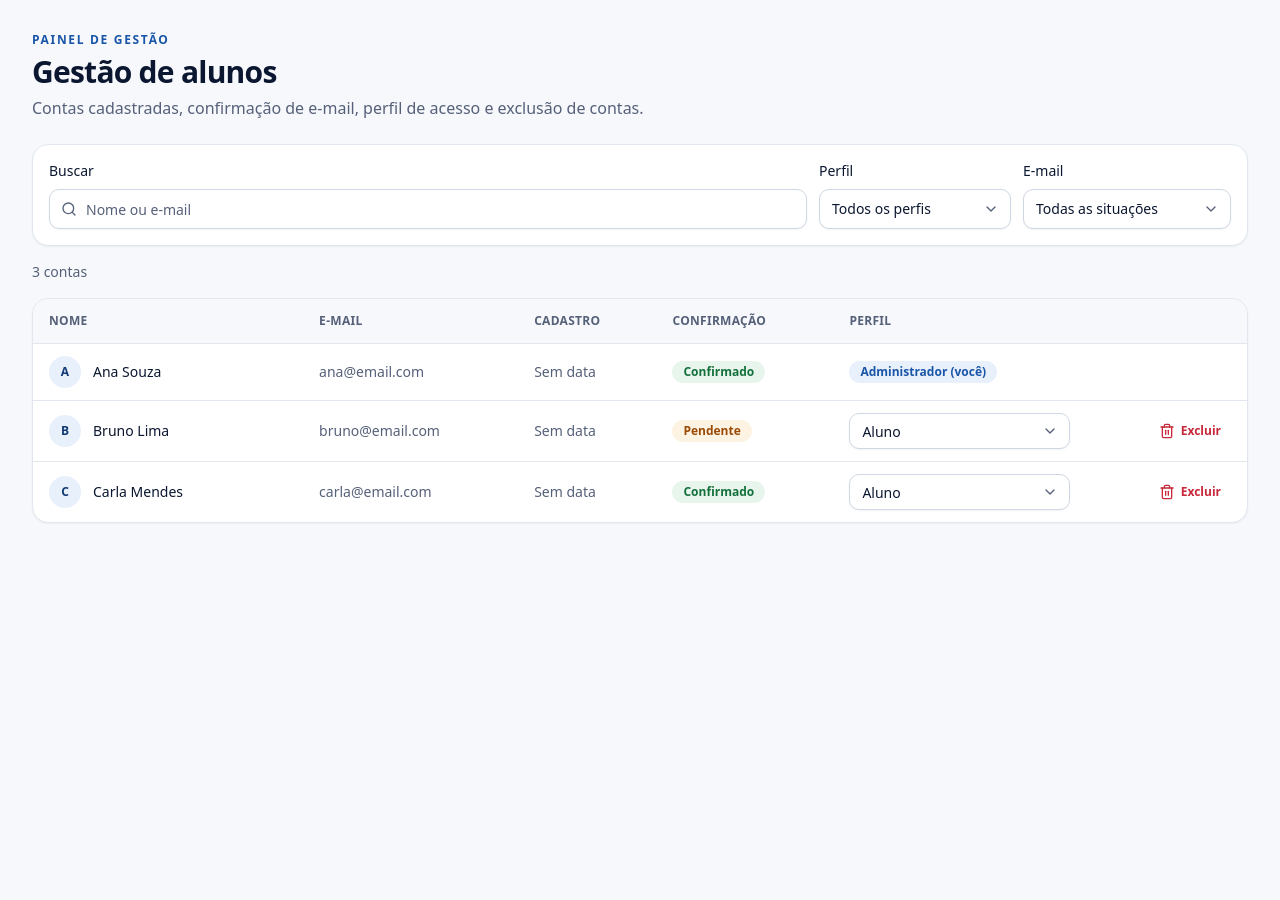
TelaAdminAlunos › mostra o erro devolvido pela API na troca de perfil
Select "Administrador" in the dropdown named "Perfil de Bruno Lima" at (960, 430), box [849, 412, 1070, 448]
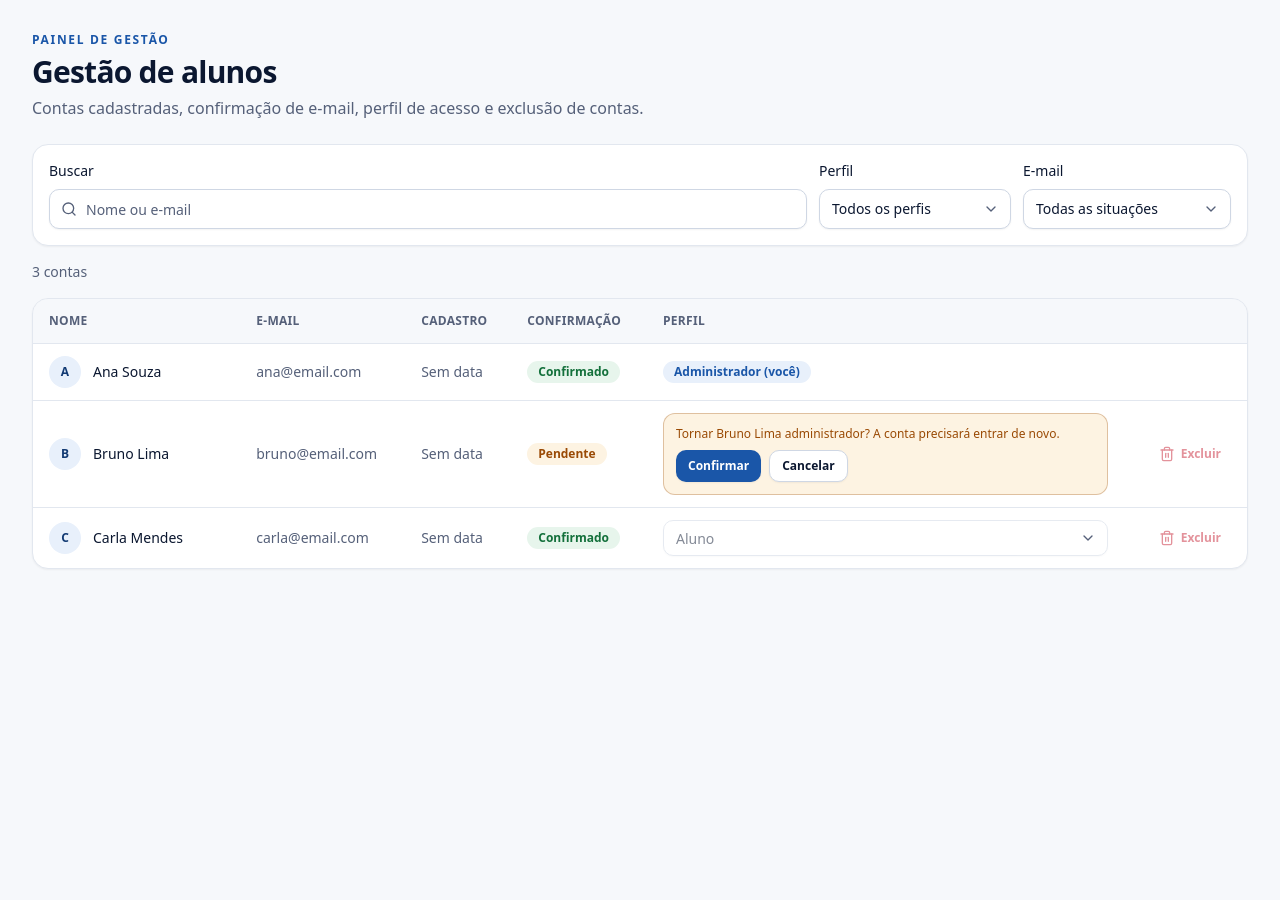
Click the button "Confirmar" at (719, 466), box [676, 450, 761, 482]
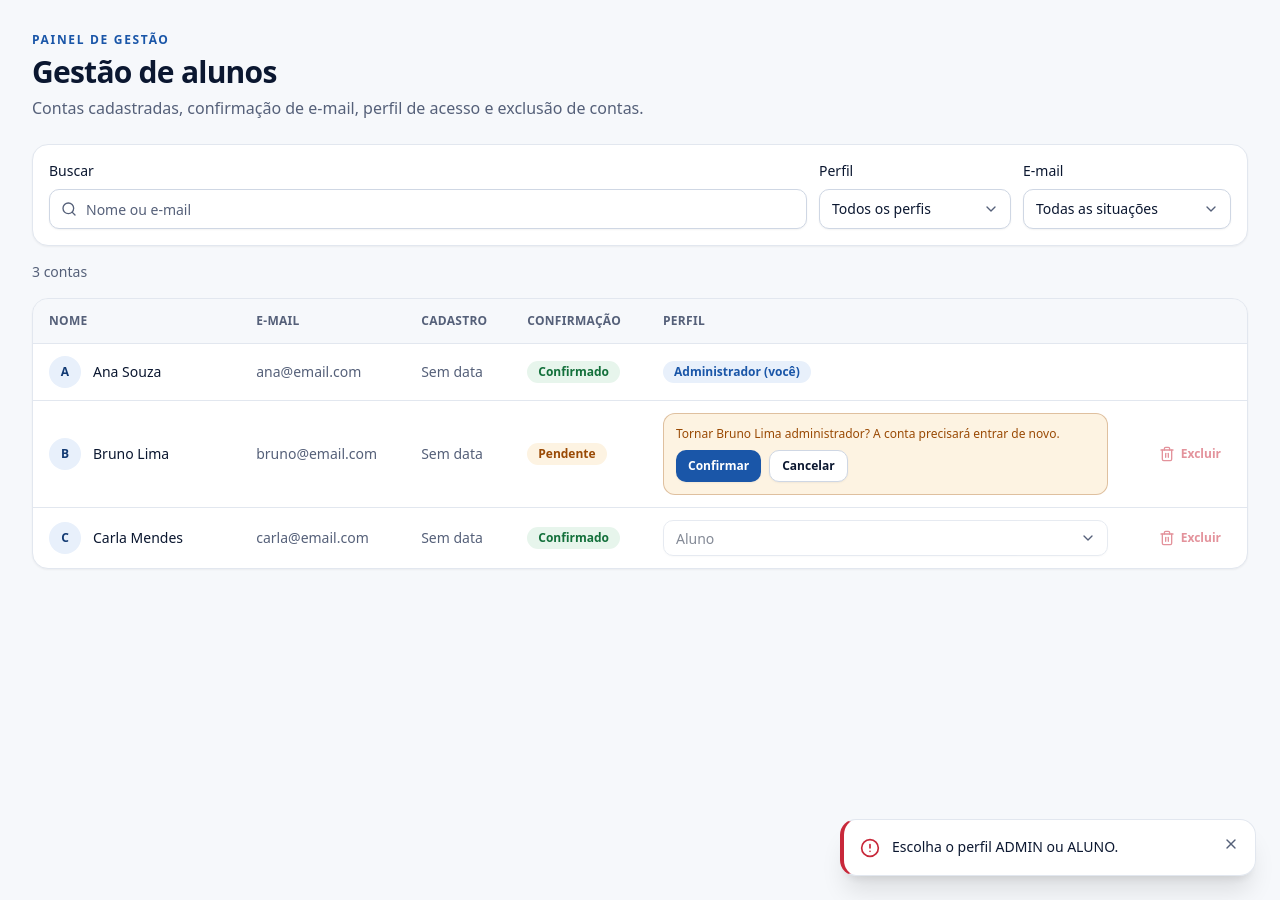
Now the text "Escolha o perfil ADMIN ou ALUNO." is shown, box [892, 837, 1118, 856]
